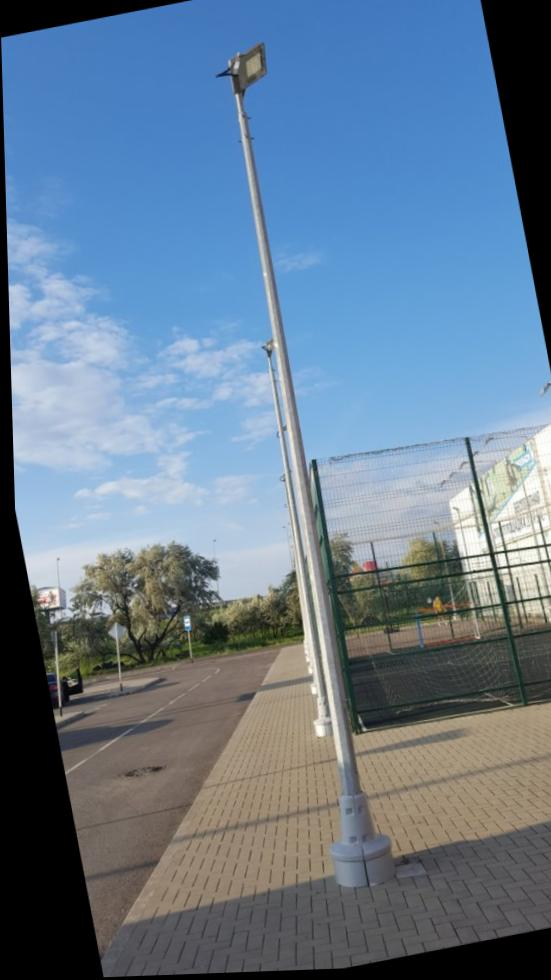Animal: (179, 29, 467, 924)
